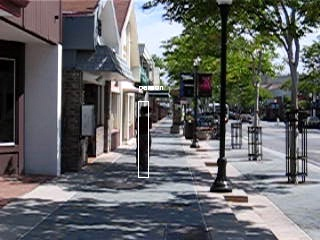person: (133, 106, 154, 172), (132, 106, 153, 172), (134, 106, 155, 172), (133, 105, 154, 171), (133, 107, 154, 173)
target_negative: (124, 197, 287, 238), (156, 44, 248, 54), (299, 125, 310, 205), (92, 203, 109, 226)
